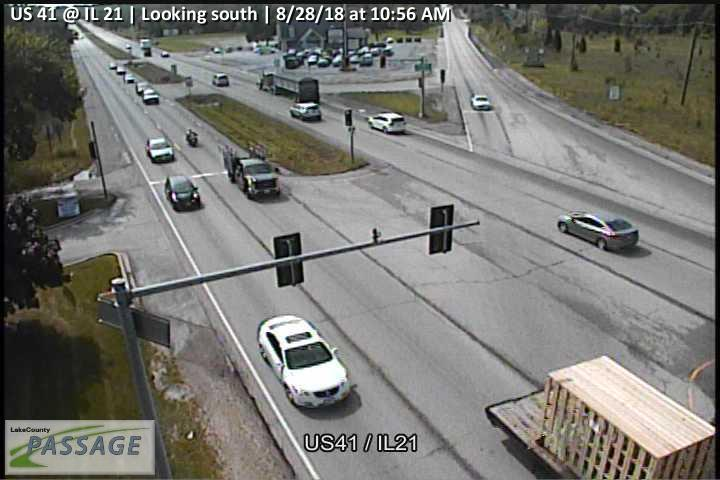Motorbike: (185, 127, 201, 148)
SUV: (164, 173, 202, 213), (367, 111, 408, 136), (211, 72, 231, 87), (285, 102, 287, 104)
Sedan: (255, 312, 351, 410), (556, 207, 640, 252), (144, 135, 175, 164), (471, 93, 490, 111), (141, 86, 160, 103), (136, 78, 150, 93), (115, 64, 125, 73), (160, 49, 170, 58), (125, 73, 134, 82), (108, 61, 117, 69)
Truck: (483, 354, 720, 480), (219, 138, 283, 201), (254, 69, 320, 103)
